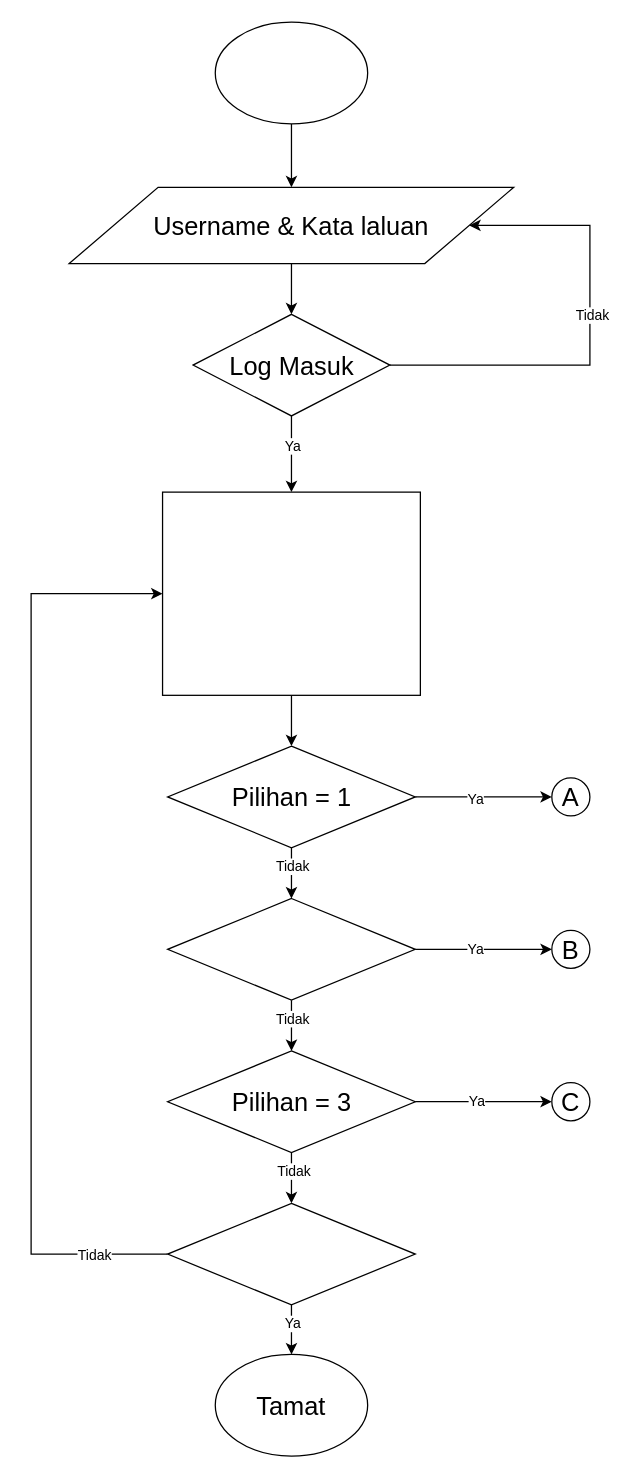
Some shapes in this 631 by 1478 pixel diagram are drawn without their labels. Here are the shapes that lost their labels. From the top down, the box of each, then its label:
(214, 21, 368, 124): Mula
(161, 491, 420, 695): Menu Utama 1. Laporan 2. Pengguna 3. Profil 4. Keluar Pilih pilihan
(166, 897, 415, 1000): Pilihan = 2
(166, 1202, 415, 1305): Pilihan = 4
